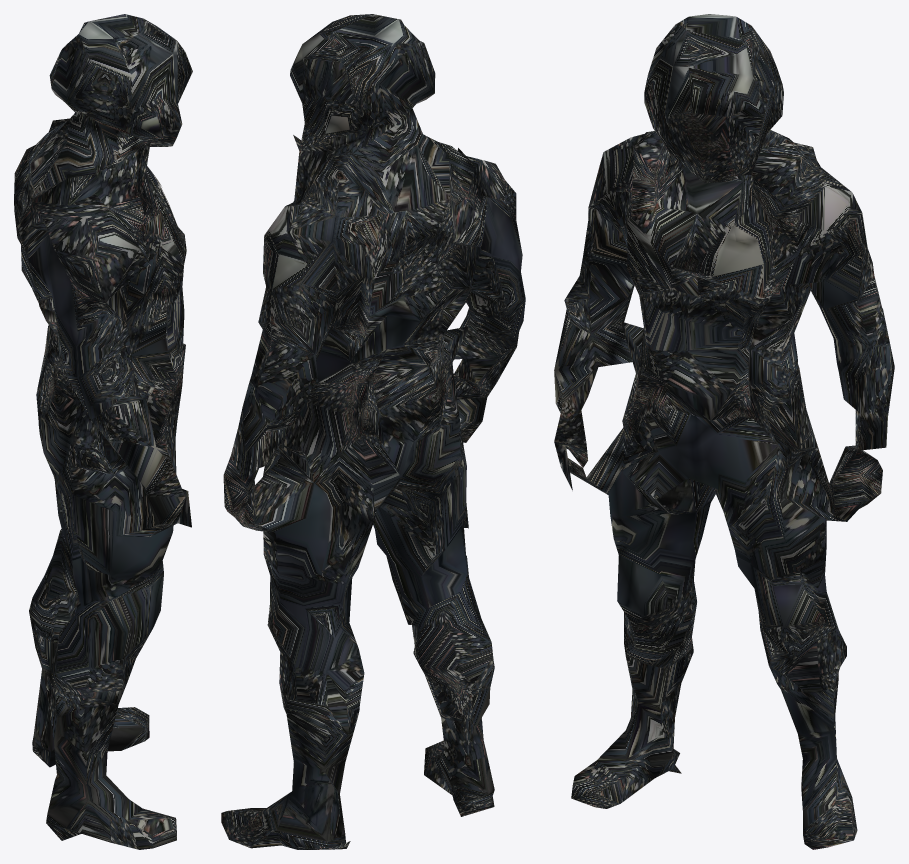
File: michael-lo.glb
The picture shows the model from 3 angles, left to right: view 1: azimuth 30°, elevation 25°; view 2: azimuth 150°, elevation 25°; view 3: azimuth 270°, elevation 25°; orthographic projection. The views are drawn at different scales.
Parts seen in each view (by area): view 1: tripo_node_c24d8418-61d3-43bc-b474-2cd5d4fdd49e; view 2: tripo_node_c24d8418-61d3-43bc-b474-2cd5d4fdd49e; view 3: tripo_node_c24d8418-61d3-43bc-b474-2cd5d4fdd49e.
Part boxes in pixels (x1,y1,x2,y2): tripo_node_c24d8418-61d3-43bc-b474-2cd5d4fdd49e: (14, 14, 192, 849); tripo_node_c24d8418-61d3-43bc-b474-2cd5d4fdd49e: (221, 14, 525, 849); tripo_node_c24d8418-61d3-43bc-b474-2cd5d4fdd49e: (554, 14, 894, 849).
Size of the model in its own units: 0.2544 by 0.9961 by 0.3913.
Materials: 1 (1 with a texture image).
